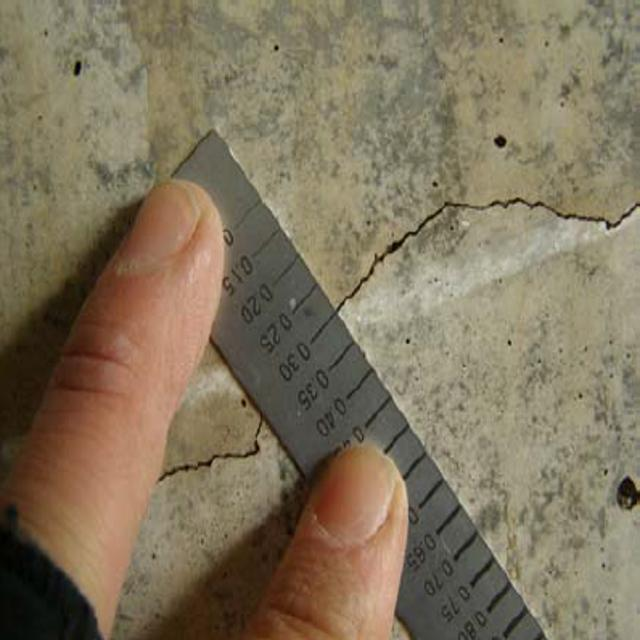crack: (328, 165, 640, 315), (161, 402, 280, 518)
